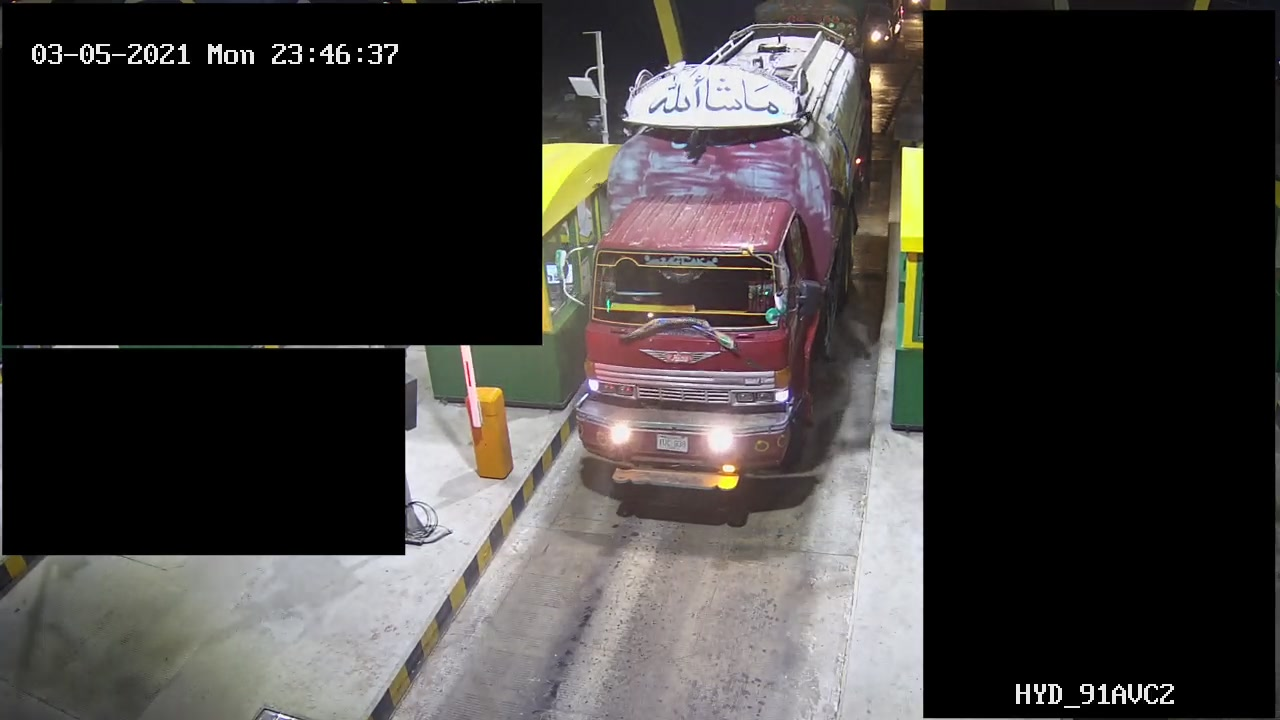F6: (556, 33, 883, 517)
